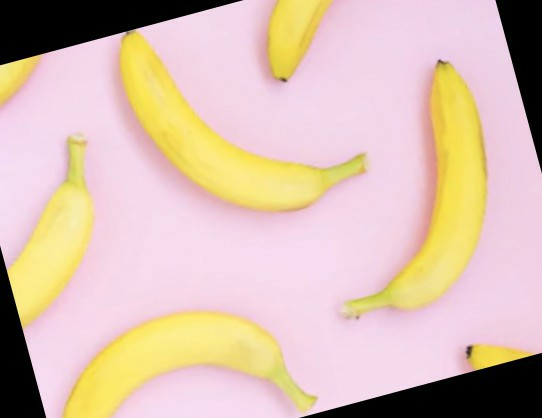normal_banana: (119, 28, 369, 212), (340, 58, 488, 317), (62, 311, 320, 418), (9, 134, 94, 332)
